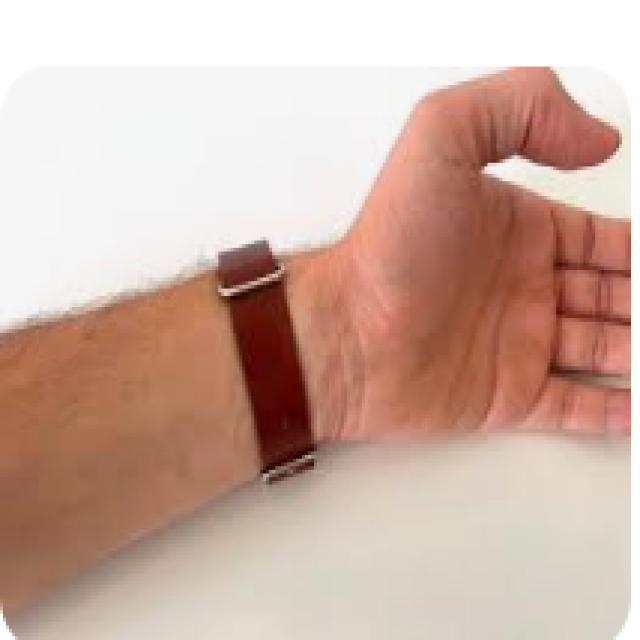Watch: (218, 235, 338, 484)
